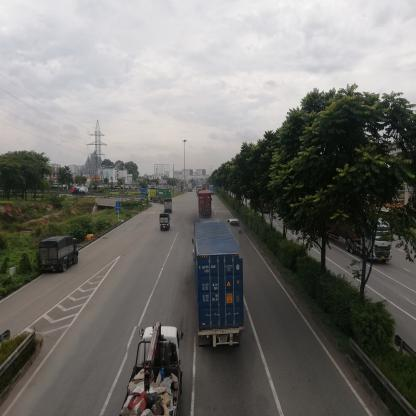car: (229, 219, 242, 233)
container: (196, 223, 240, 348), (149, 187, 173, 204), (199, 192, 214, 219)
truck: (128, 327, 182, 416), (40, 235, 79, 275), (159, 214, 171, 232), (71, 187, 90, 198), (164, 200, 173, 215)
